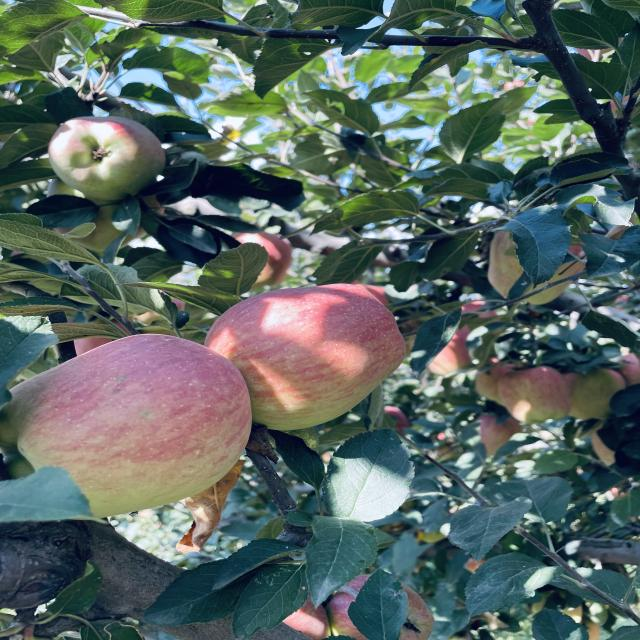Apple: (5, 334, 252, 518), (205, 284, 405, 431), (48, 116, 165, 201), (498, 366, 572, 422)
